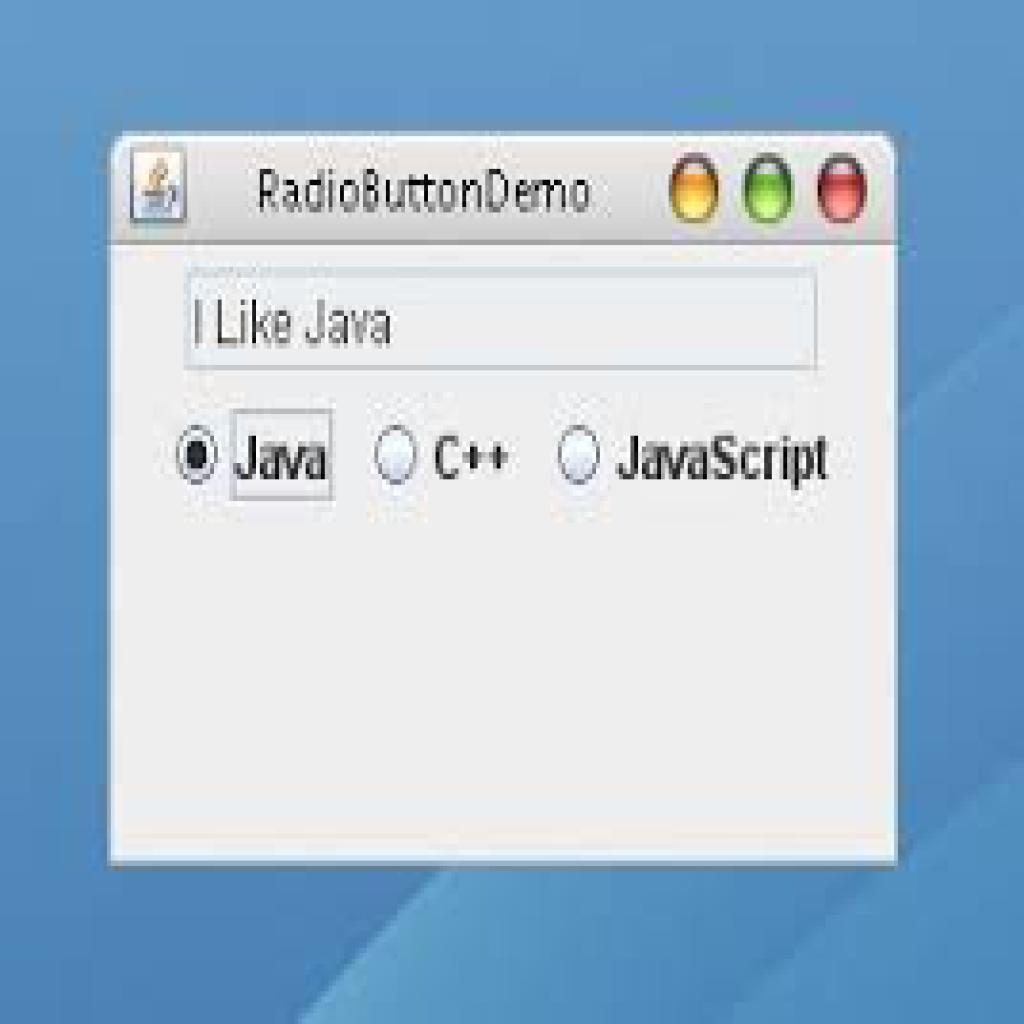input: (189, 268, 818, 369)
label: (616, 426, 833, 487), (230, 411, 333, 496), (430, 420, 508, 480)
radio: (555, 408, 606, 490), (368, 415, 419, 494), (176, 415, 224, 493)
